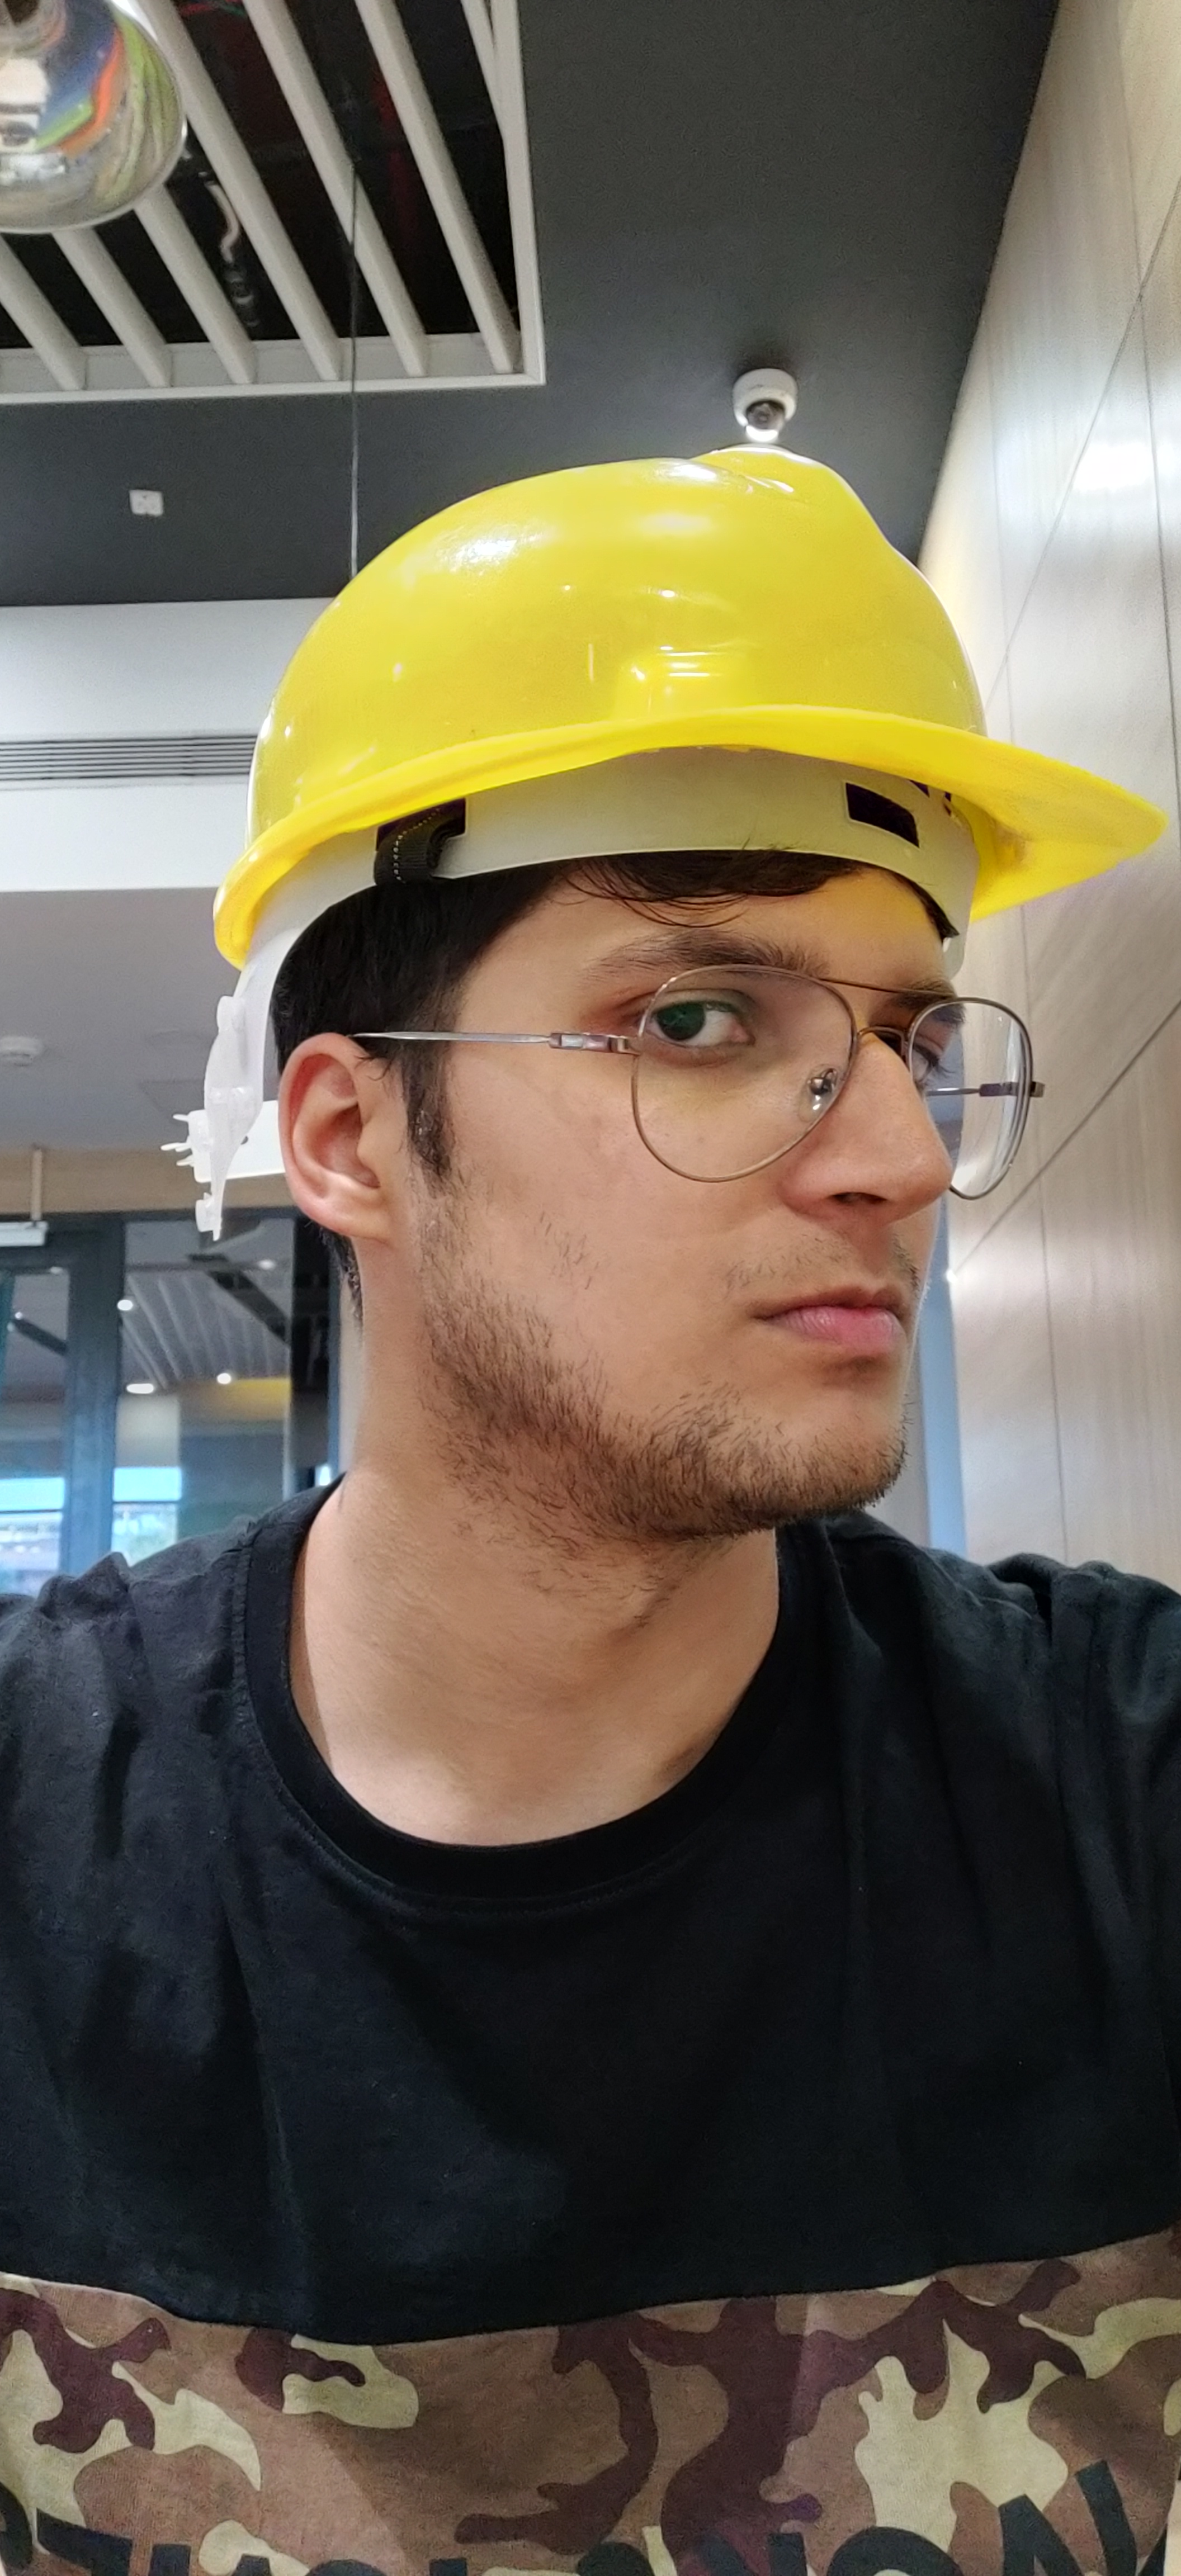Person_wearing_helmet: (142, 375, 1171, 1082)
